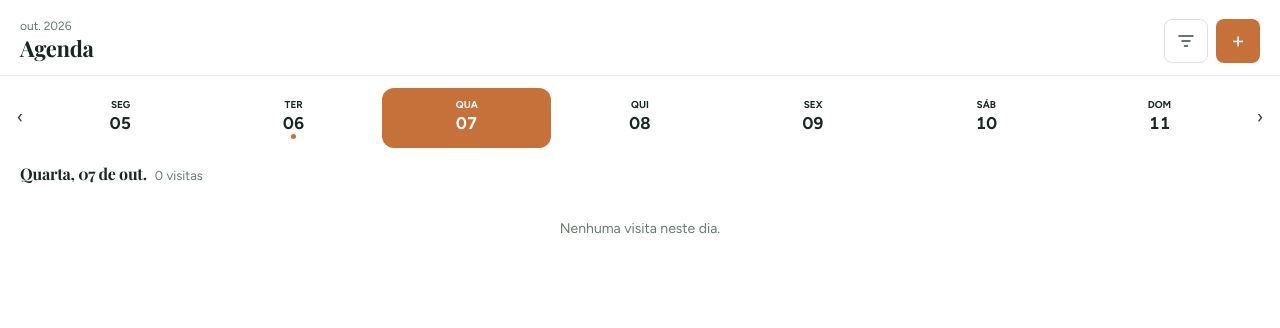
Test case: Agenda (/visitation/agenda) › no celular a tela mostra um dia por vez, começando por hoje
Check: the text "Nenhuma visita neste dia." is shown, box 560,220 -> 720,237
Click the tab with aria-label "Terça, 06 de out., com visitas". click: (294, 118)
box: 209,88 -> 378,148
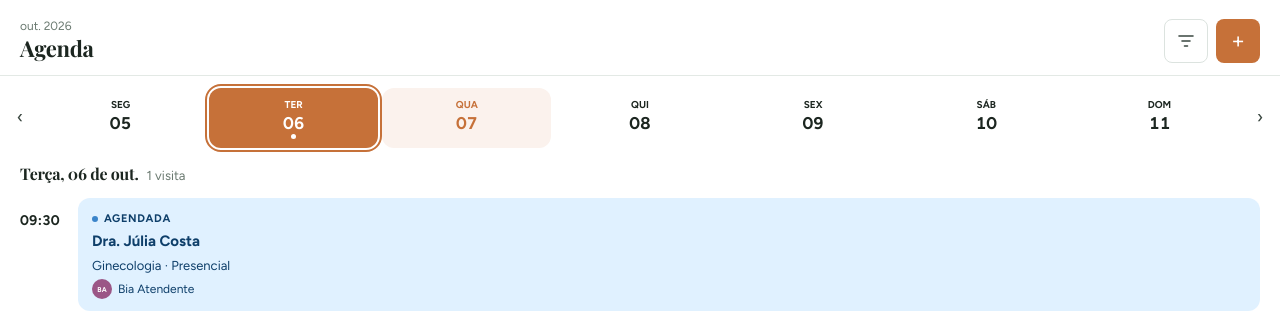
Check: the text "Dra. Júlia Costa" is shown, box 92,230 -> 200,253
Check: the text "Ginecologia · Presencial" is shown, box 92,256 -> 230,276
Check: the text "Bia Atendente" is shown, box 118,281 -> 194,298
